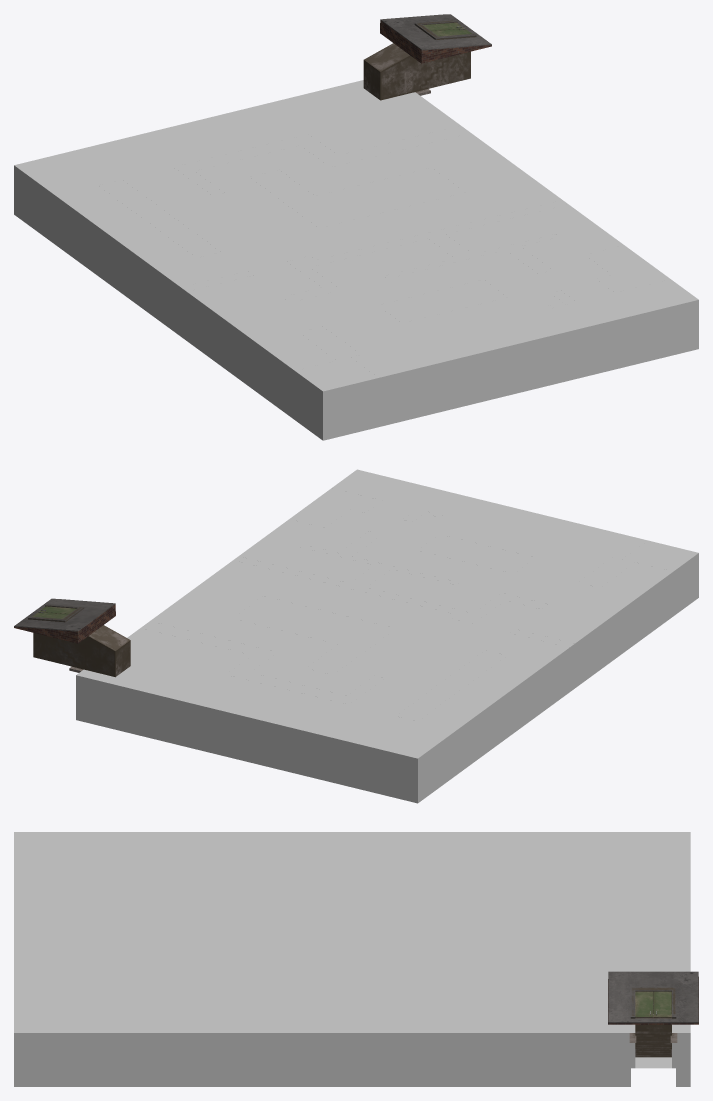
The model's file is Train yard basement.fbx.
The picture shows the model from 3 angles, top to bottom: view 1: azimuth 30°, elevation 25°; view 2: azimuth 150°, elevation 25°; view 3: azimuth 270°, elevation 25°; orthographic projection. The views are drawn at different scales.
Visible parts, largest first — view 1: Plane.007, Plane.005, Cube.030; view 2: Plane.007, Plane.005, Cube.030; view 3: Plane.007, Plane.005, Cube.030, StairsBasement, Cube.038.
Boxes of the visible parts, x1,y1,x2,y2 form: Plane.007: (14, 80, 698, 391); Plane.005: (14, 165, 698, 440); Cube.030: (363, 14, 491, 100); Plane.007: (76, 469, 698, 758); Plane.005: (76, 553, 698, 803); Cube.030: (14, 598, 130, 677); Plane.007: (14, 832, 690, 1032); Plane.005: (14, 1014, 690, 1086); Cube.030: (608, 971, 698, 1024); StairsBasement: (635, 1015, 671, 1057); Cube.038: (635, 991, 671, 1017).
Bounding box in the file's own units: 3038 × 675 × 3739.
